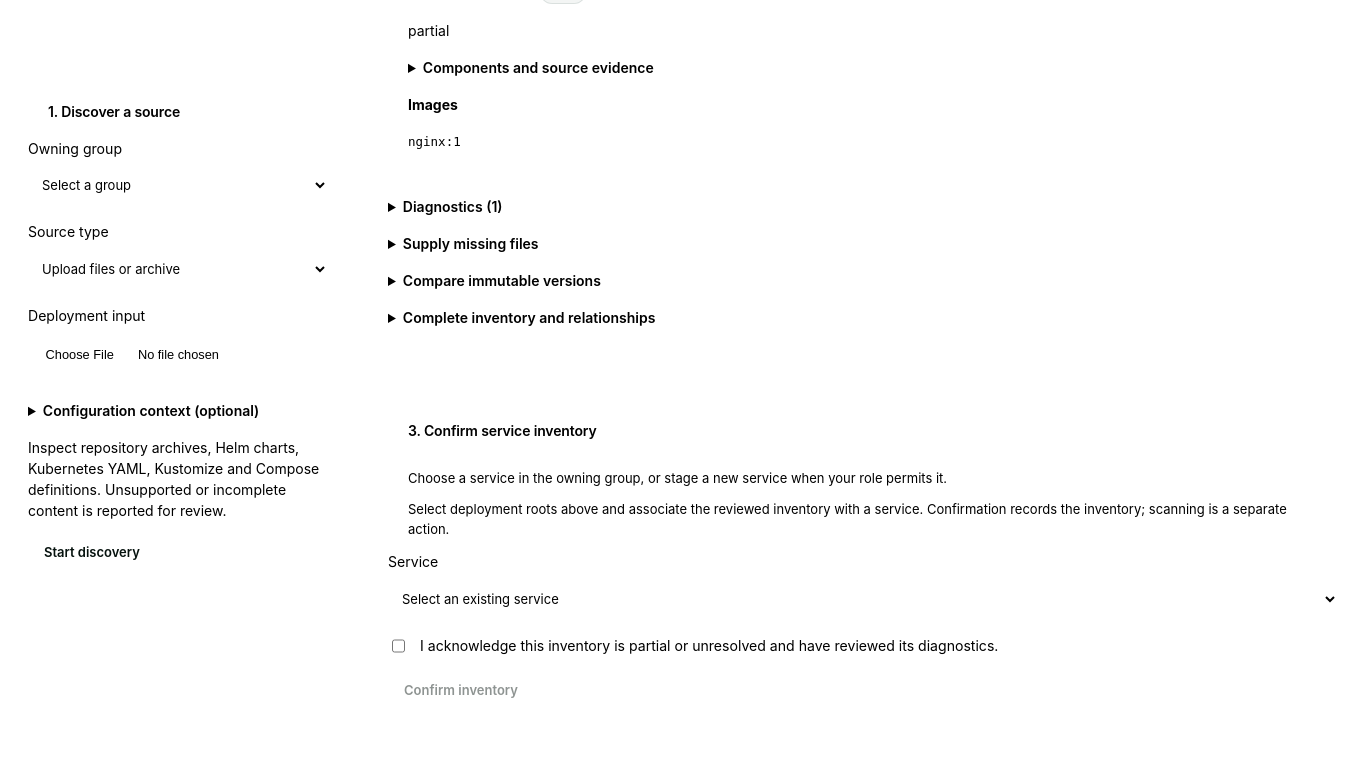
Test: requires selected roots and partial acknowledgement, confirms without scanning, and scopes services
The image size is (1366, 757).
(page scrolled)
Expected: the text "nginx:1" is shown, [408,134,461,149]
Expected: the button "Start scan" is not shown
Select "Payments (payments)" in the dropdown labelled "Service": (863, 599) [388,579,1338,619]
(page scrolled)
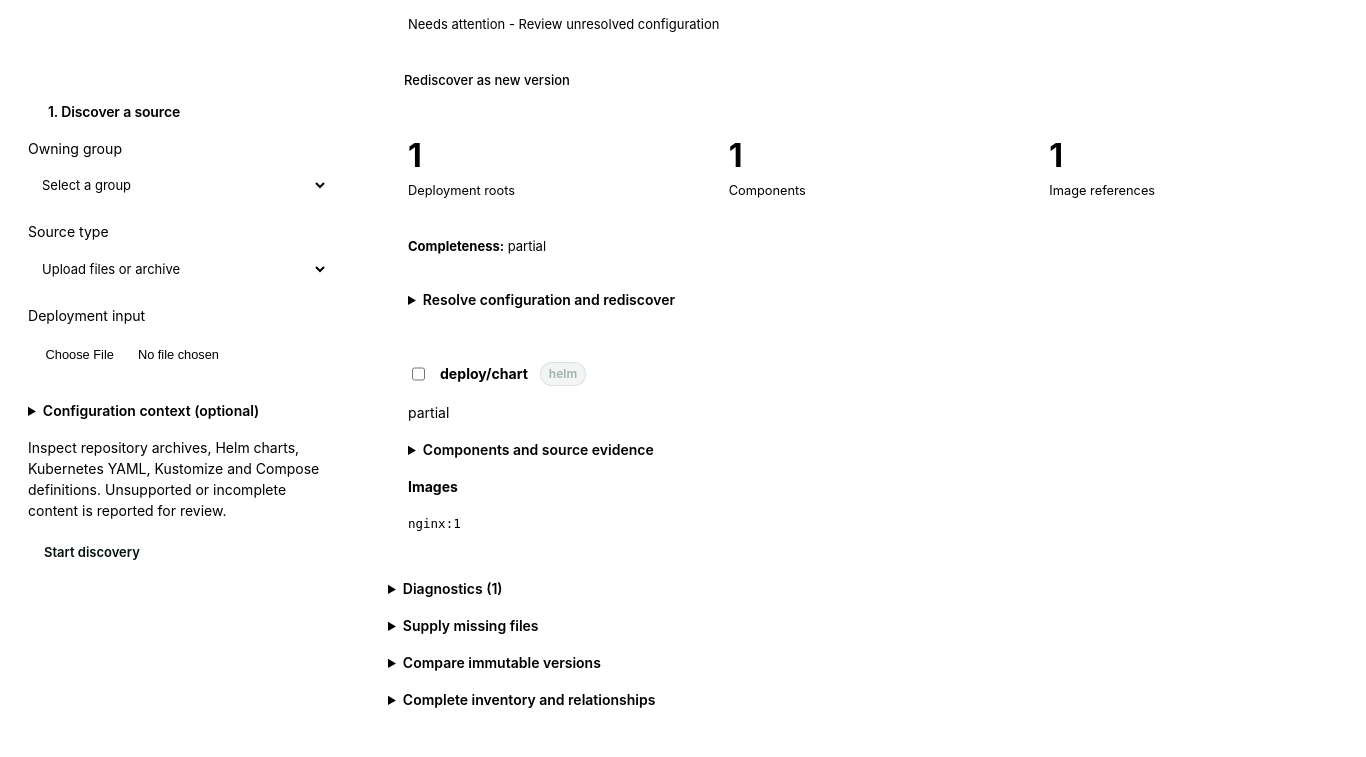
Click the checkbox labelled "deploy/chart helm": (418, 374) [412,366,425,382]
(page scrolled)
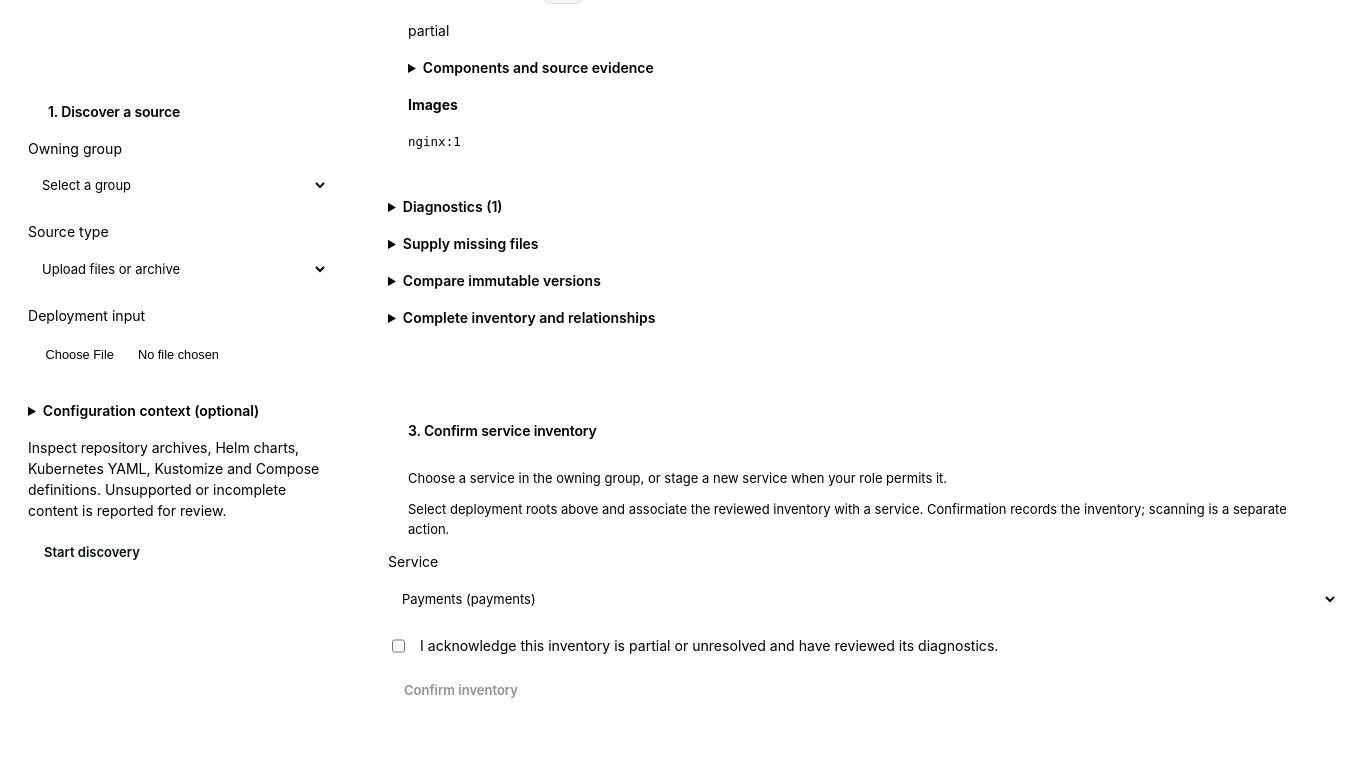
Expected: the button "Confirm inventory" is disabled, [388,673,534,709]
Click the checkbox labelled "I acknowledge": (398, 646) [392,638,405,654]
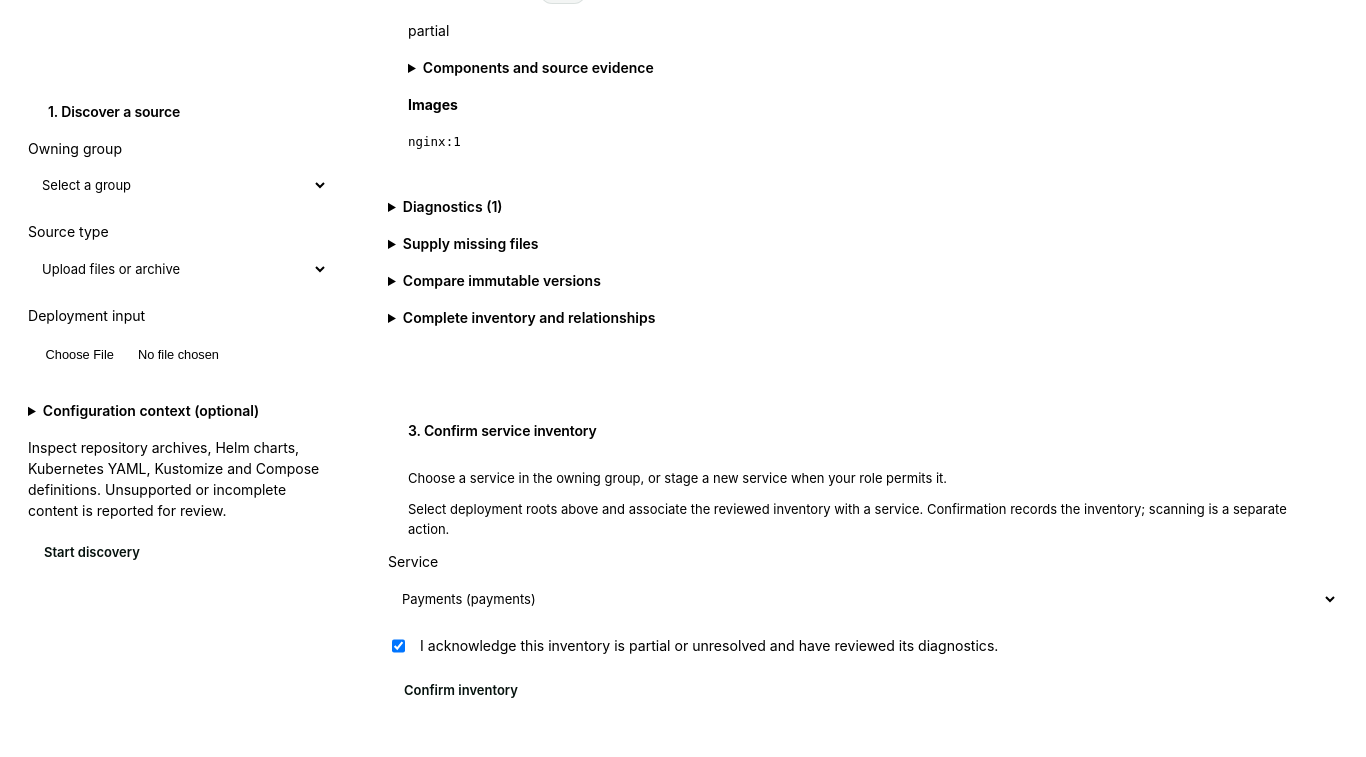
Click the button "Confirm inventory": (461, 691) [388,673,534,709]
(page scrolled)
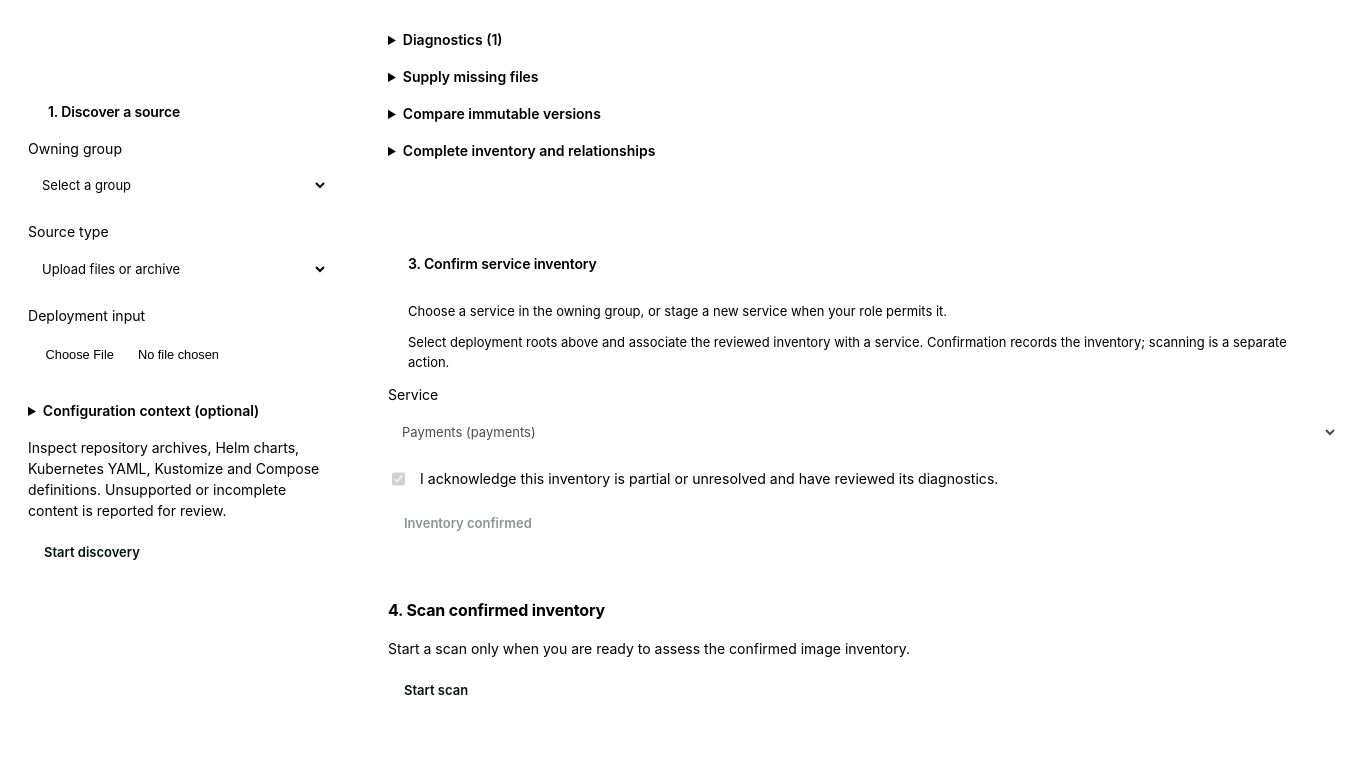
Now the button "Start scan" is shown, box [388,673,484,709]
